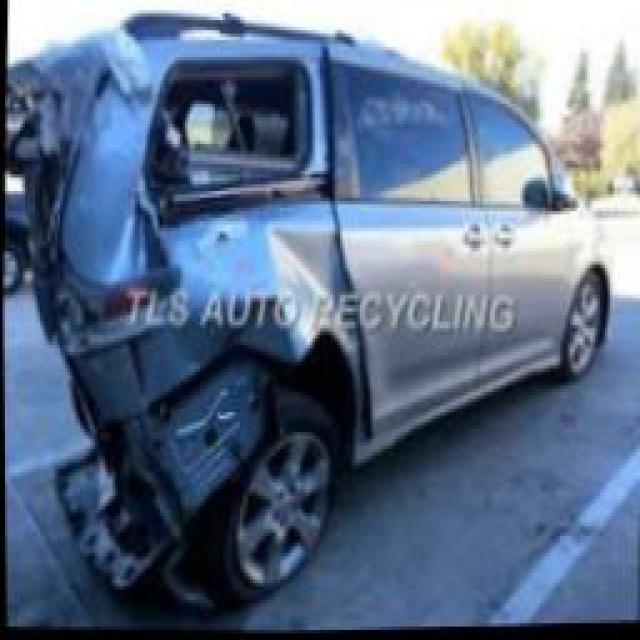Bumper: (34, 329, 261, 590)
Dickey: (2, 30, 122, 271)
Fender: (148, 211, 349, 424), (148, 44, 342, 222)
Light: (55, 251, 178, 355)
